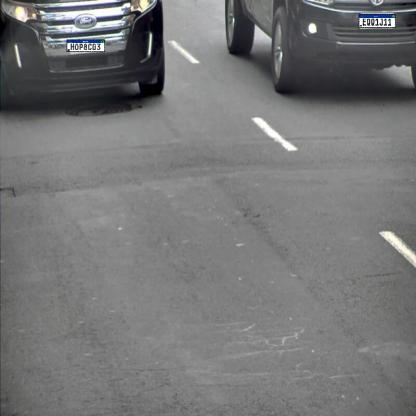PlacaM: (359, 14, 396, 28), (67, 40, 105, 52)
